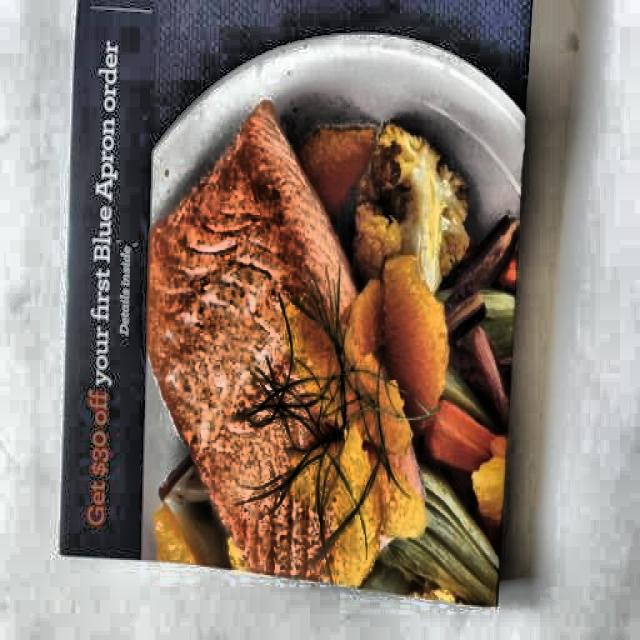paper: (61, 3, 526, 609)
